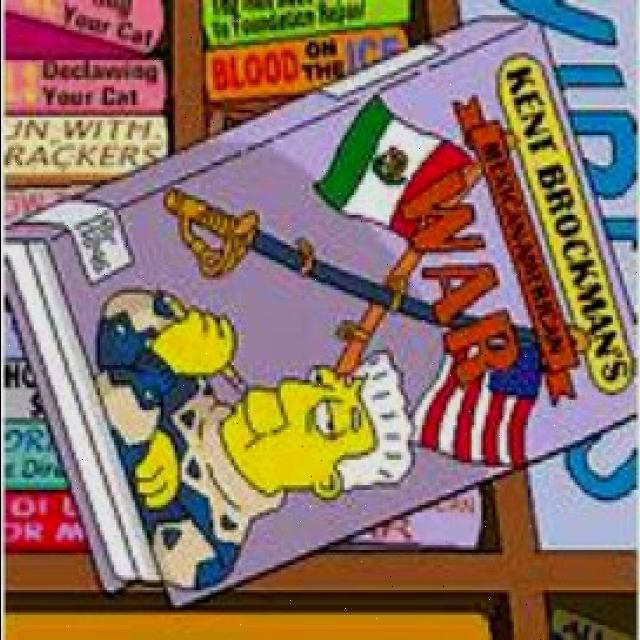Kent Brockman: (216, 346, 416, 508)
